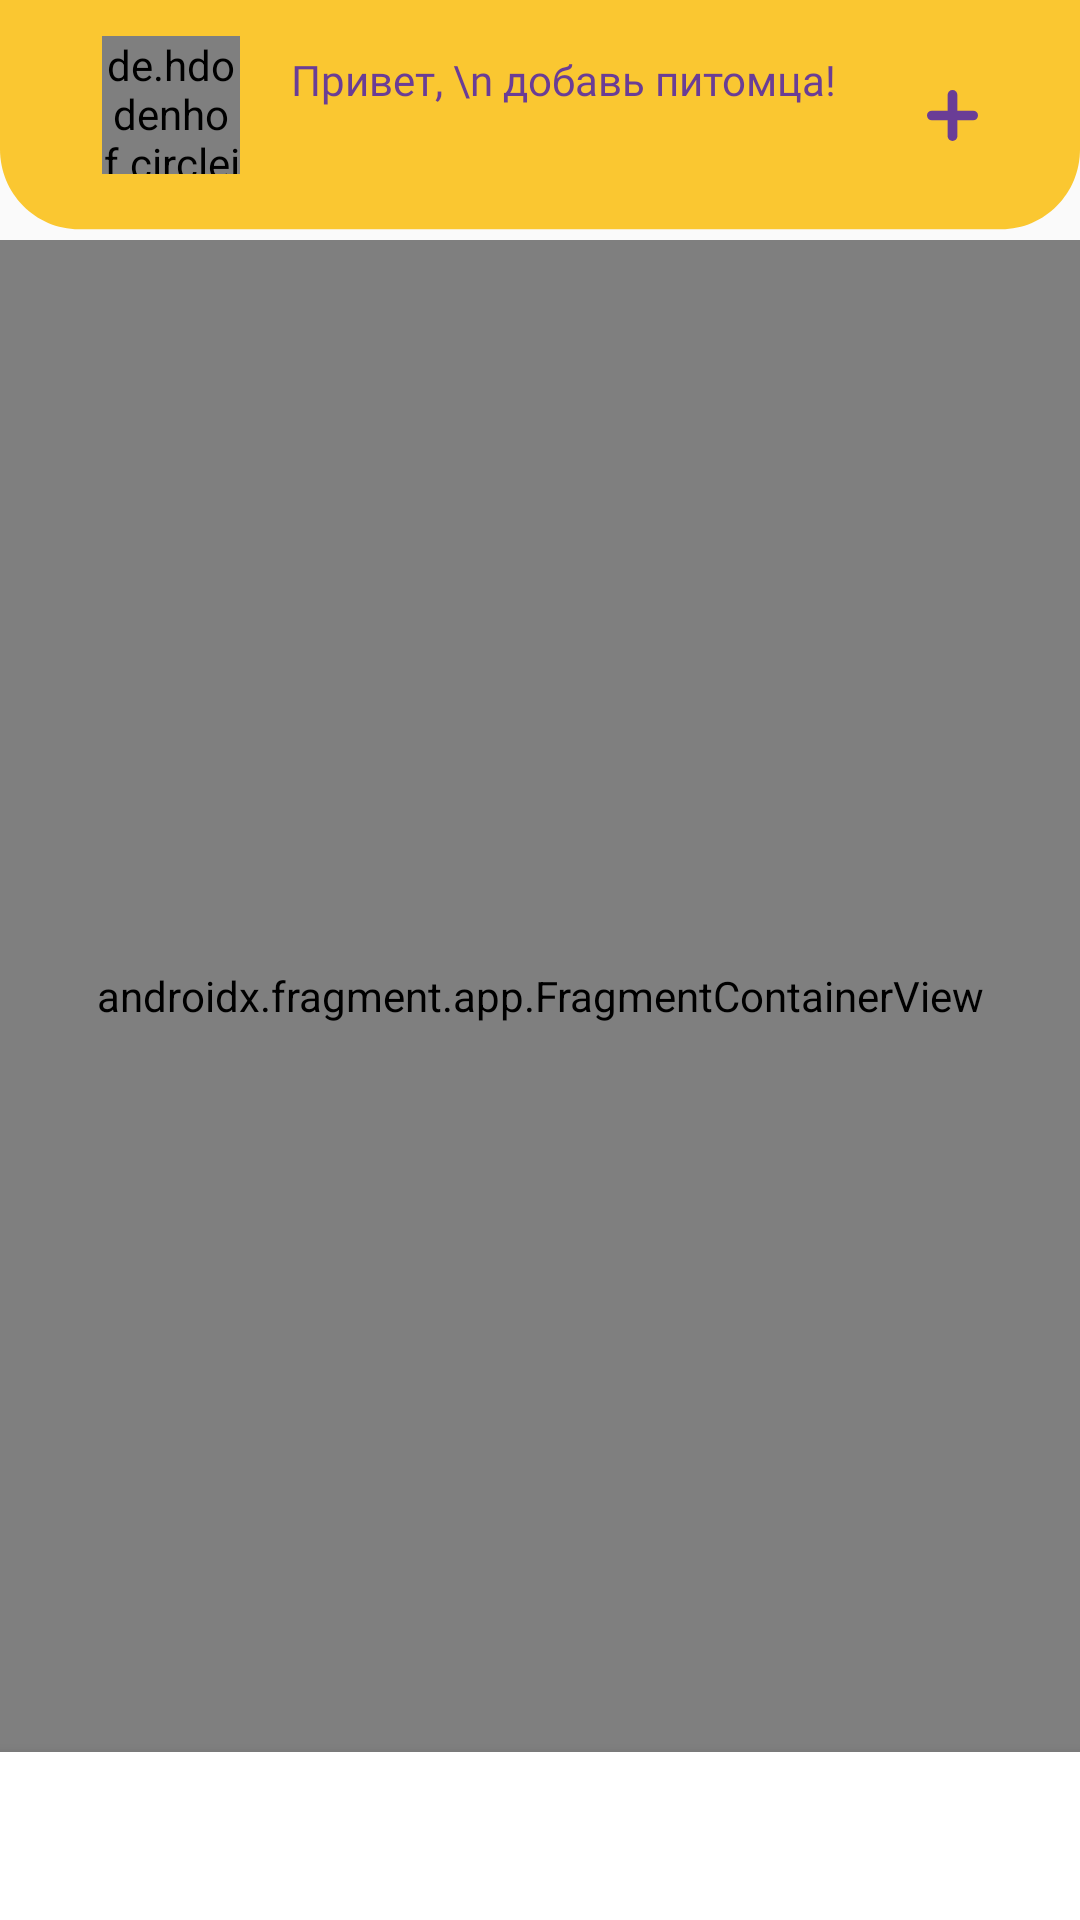

Icon click points for this 1080w x 1920h phone screenshot, format point (x, y):
plus: point (952, 115)
